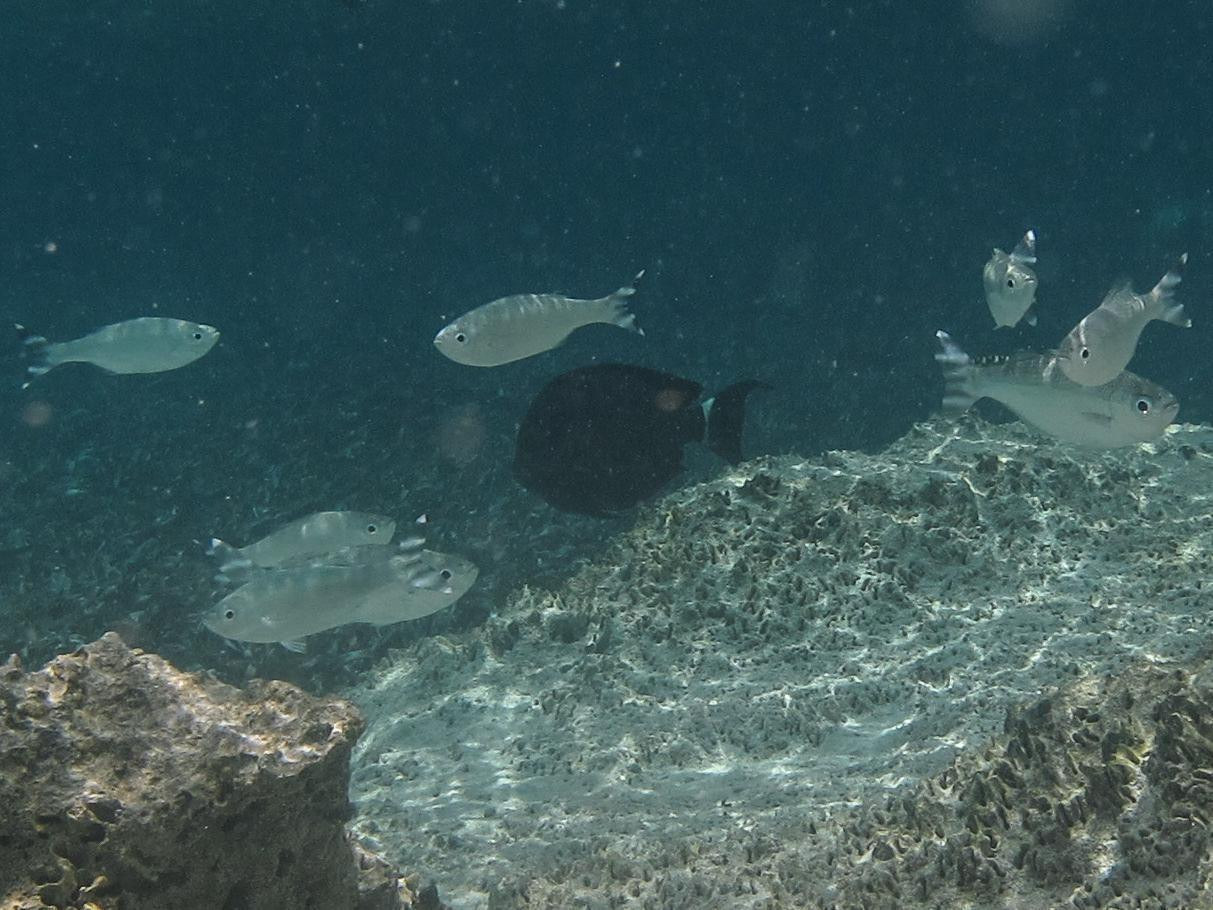Fish: (922, 318, 1213, 486), (406, 246, 666, 384), (200, 507, 438, 656), (0, 298, 260, 402)
